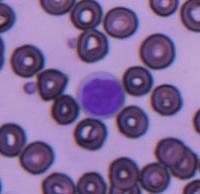L: (76, 70, 124, 119)
